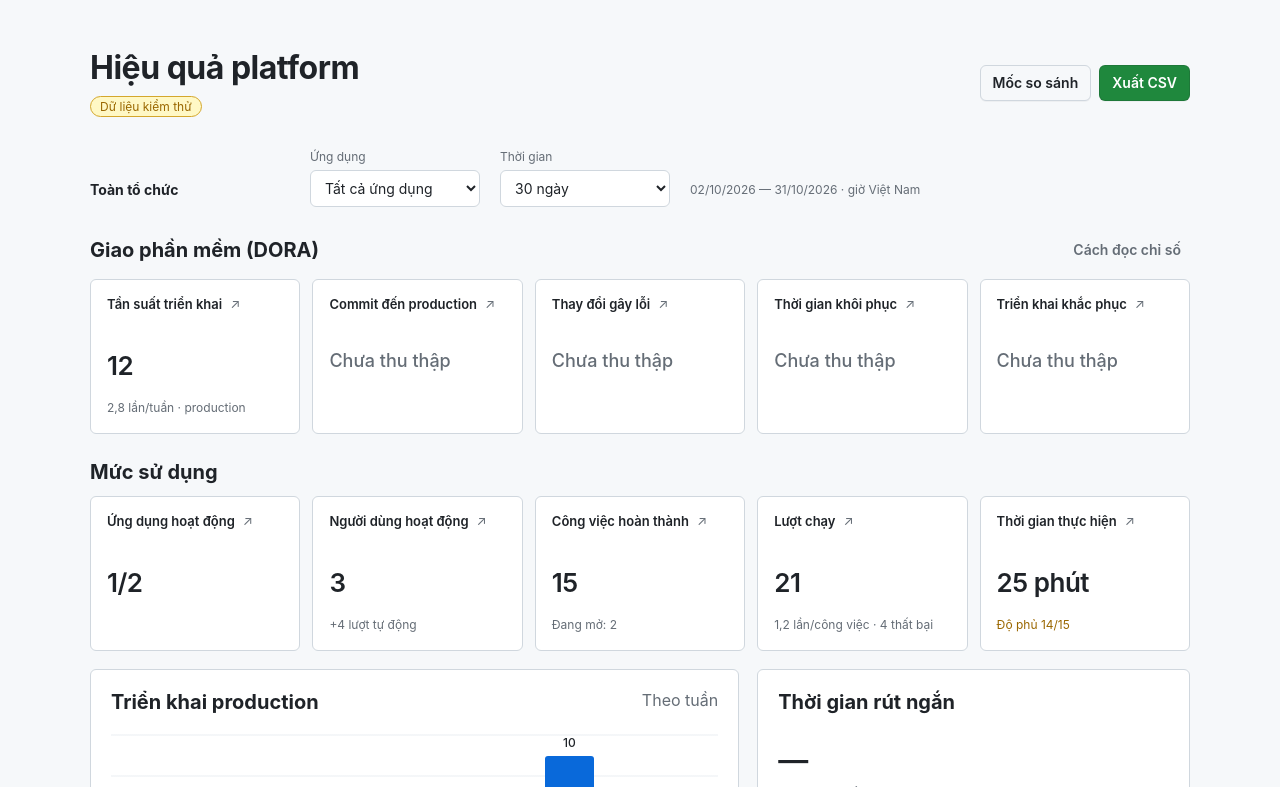
Test: EffectivenessPage › shows the required source for a metric that is not collected, without loading records
The image size is (1280, 787).
Click the button with aria-label "Commit đến production: Chưa thu thập. Xem chi tiết" at (418, 356), box [312,279,523,434]
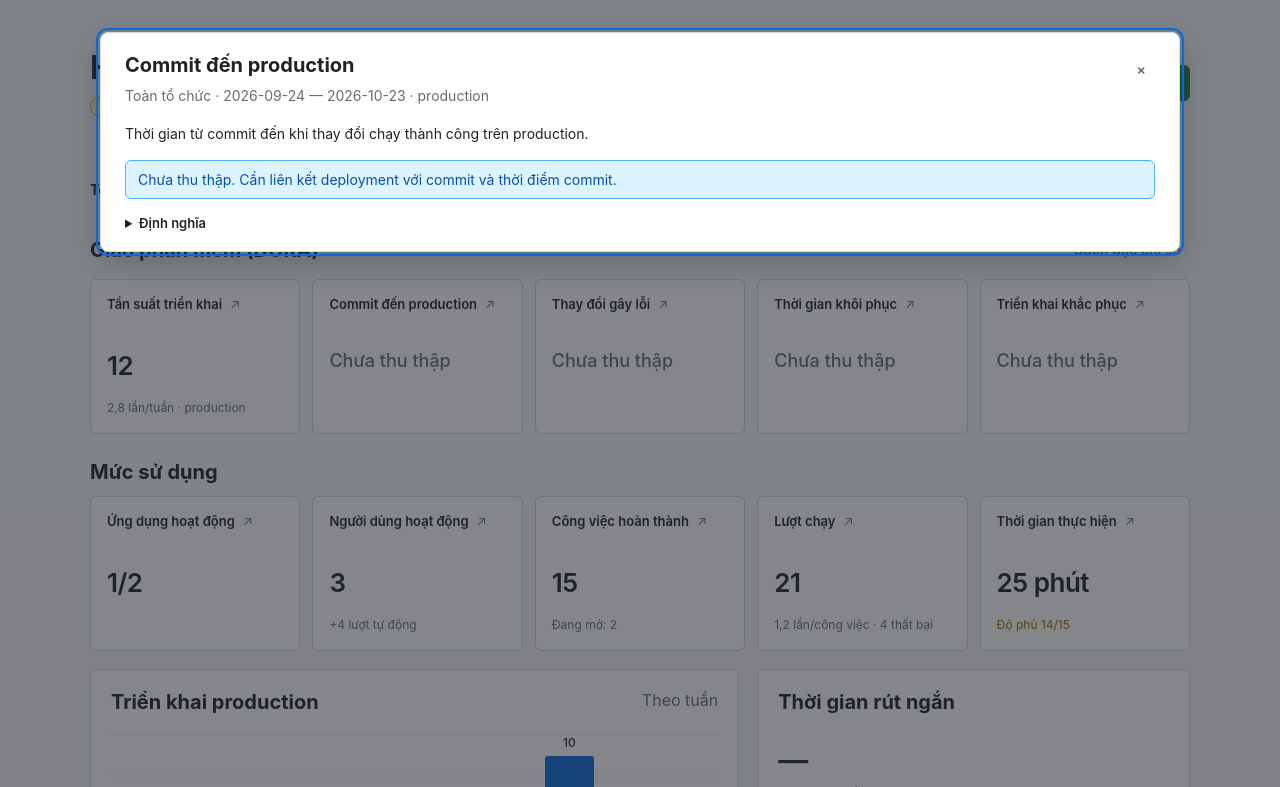
Result: the dialog shows "Cần liên kết deployment với commit và thời điểm commit." at [138,171,617,188]
Press Escape
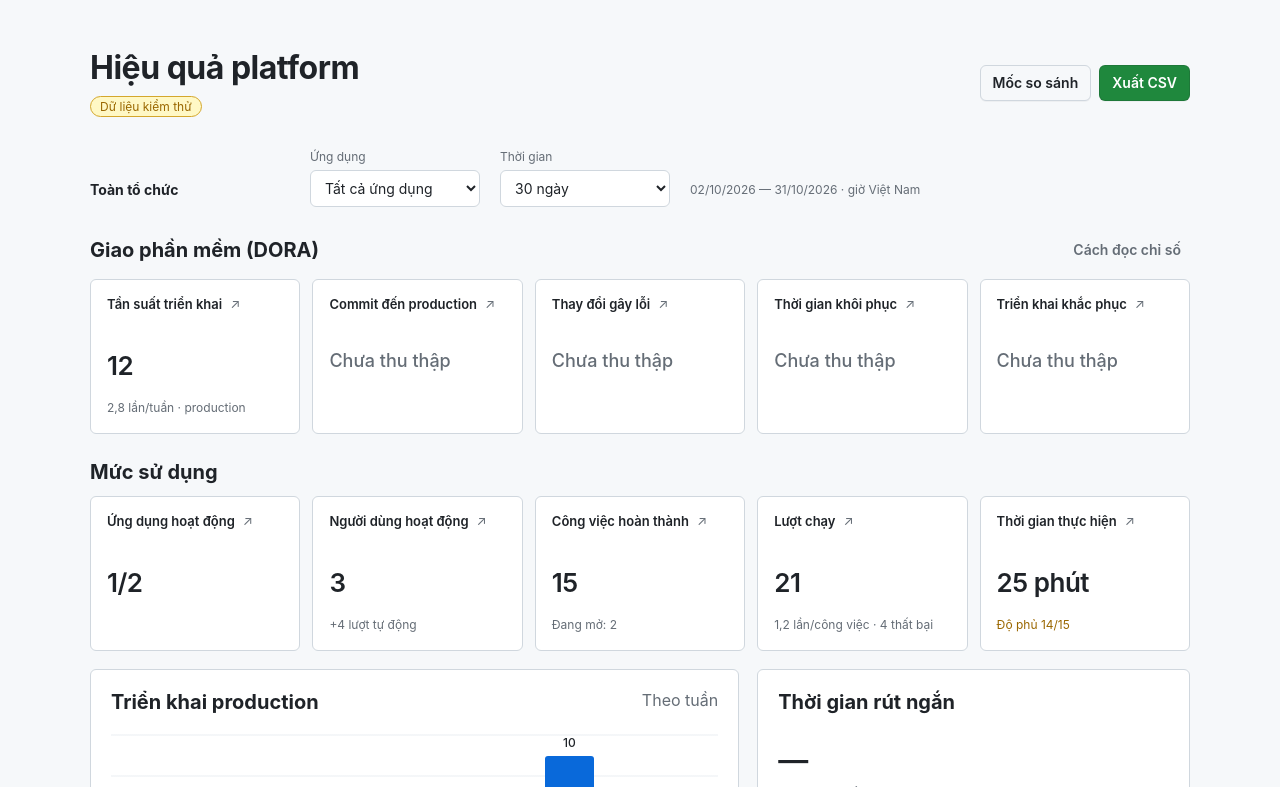
Result: the dialog is gone
